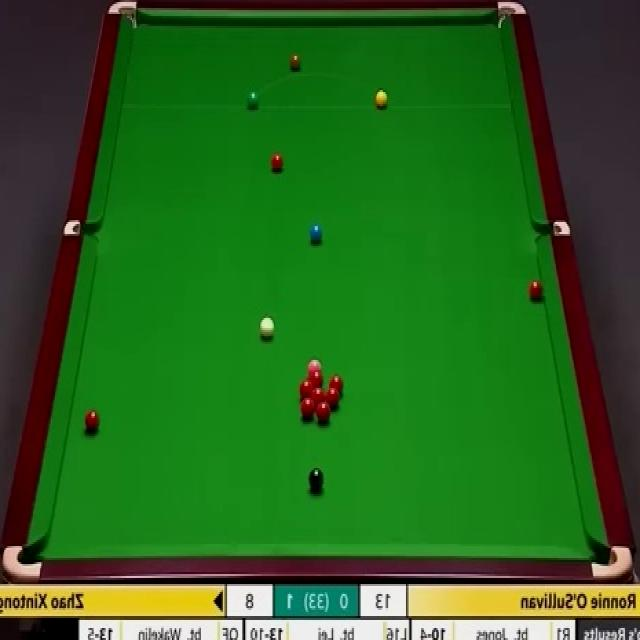black-ball: (308, 466, 324, 494)
blue-ball: (309, 222, 324, 245)
brown-ball: (289, 54, 302, 74)
green-ball: (245, 91, 261, 112)
pink-ball: (306, 360, 322, 372)
red-ball: (300, 399, 316, 423), (268, 153, 284, 175), (84, 411, 100, 433), (298, 380, 313, 402), (529, 282, 545, 302), (328, 374, 345, 392), (308, 386, 324, 404), (317, 401, 330, 423), (308, 370, 323, 387), (326, 388, 339, 407)
white-ball: (258, 316, 276, 342)
yellow-ball: (375, 90, 388, 110)
